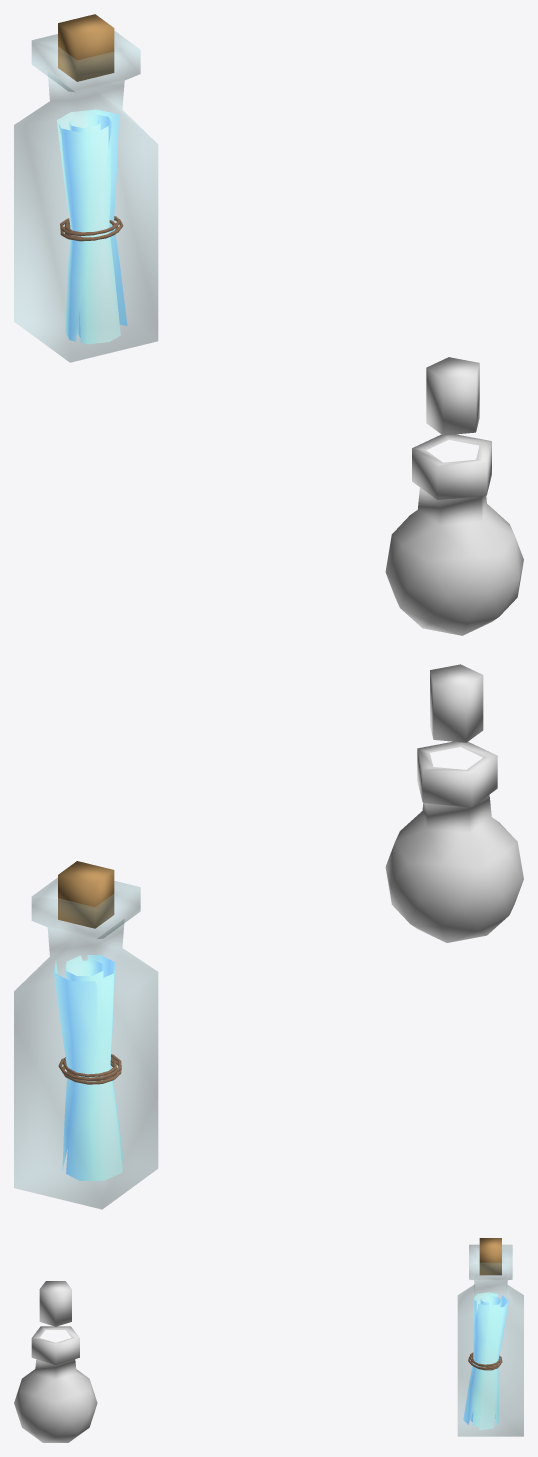
Rendered from blue-glowing-bottle.glb.
3 renders of one model, top to bottom at view 1: azimuth 30°, elevation 25°; view 2: azimuth 150°, elevation 25°; view 3: azimuth 270°, elevation 25°, orthographic. The views are drawn at different scales.
Visible parts, largest first — view 1: Torus Knot 4 x 1, Icosphere; view 2: Torus Knot 4 x 1, Icosphere; view 3: Torus Knot 4 x 1, Icosphere.
Boxes of the visible parts, <box> form: Torus Knot 4 x 1: <box>14,14,157,362</box>; Icosphere: <box>385,357,523,635</box>; Torus Knot 4 x 1: <box>14,861,157,1209</box>; Icosphere: <box>385,664,523,942</box>; Torus Knot 4 x 1: <box>458,1238,523,1436</box>; Icosphere: <box>14,1281,97,1442</box>.
Bounding box in the file's own units: 1.9 × 5.22 × 12.21.
